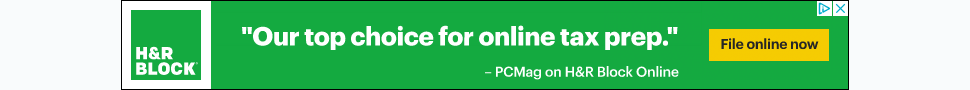fake_button: (705, 19, 837, 69)
